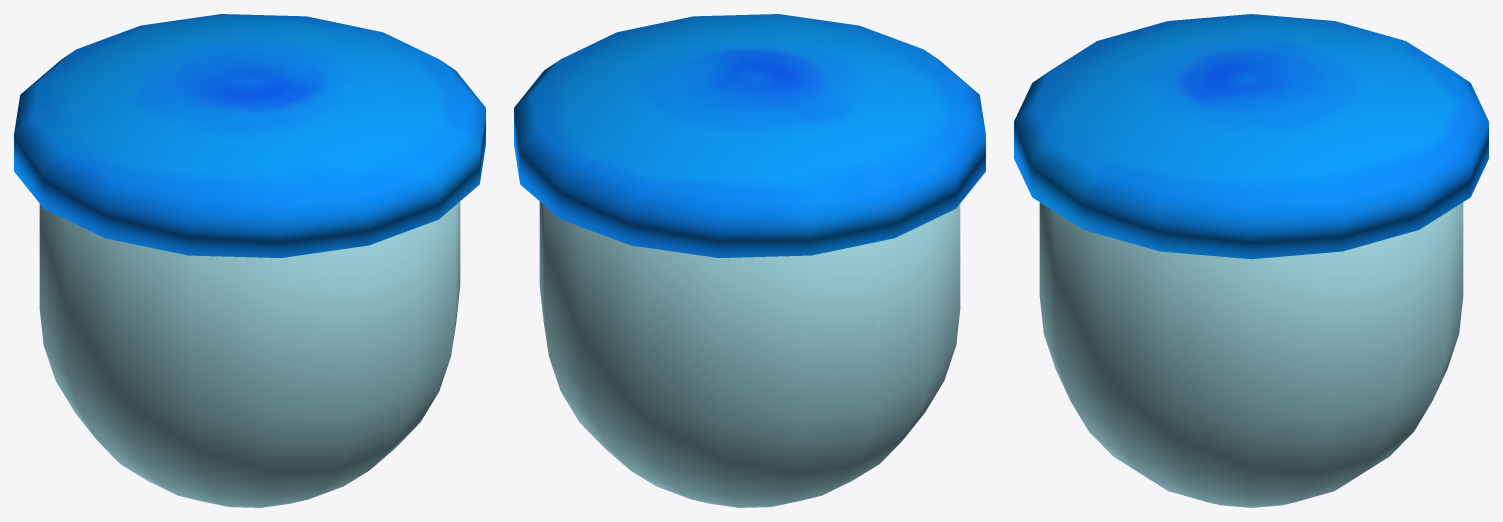
The picture shows the model from 3 angles, left to right: view 1: azimuth 30°, elevation 25°; view 2: azimuth 150°, elevation 25°; view 3: azimuth 270°, elevation 25°; orthographic projection.
Visible parts, largest first — view 1: Sphere.001, Sphere; view 2: Sphere.001, Sphere; view 3: Sphere.001, Sphere.
Boxes of the visible parts, x1=… form: Sphere.001: x1=14, y1=14, x2=485, y2=257; Sphere: x1=39, y1=201, x2=460, y2=507; Sphere.001: x1=514, y1=14, x2=985, y2=257; Sphere: x1=539, y1=201, x2=960, y2=507; Sphere.001: x1=1014, y1=14, x2=1488, y2=259; Sphere: x1=1039, y1=202, x2=1463, y2=507.
Bounding box in the file's own units: 250 × 236 × 250.
1 material, 1 textured.
